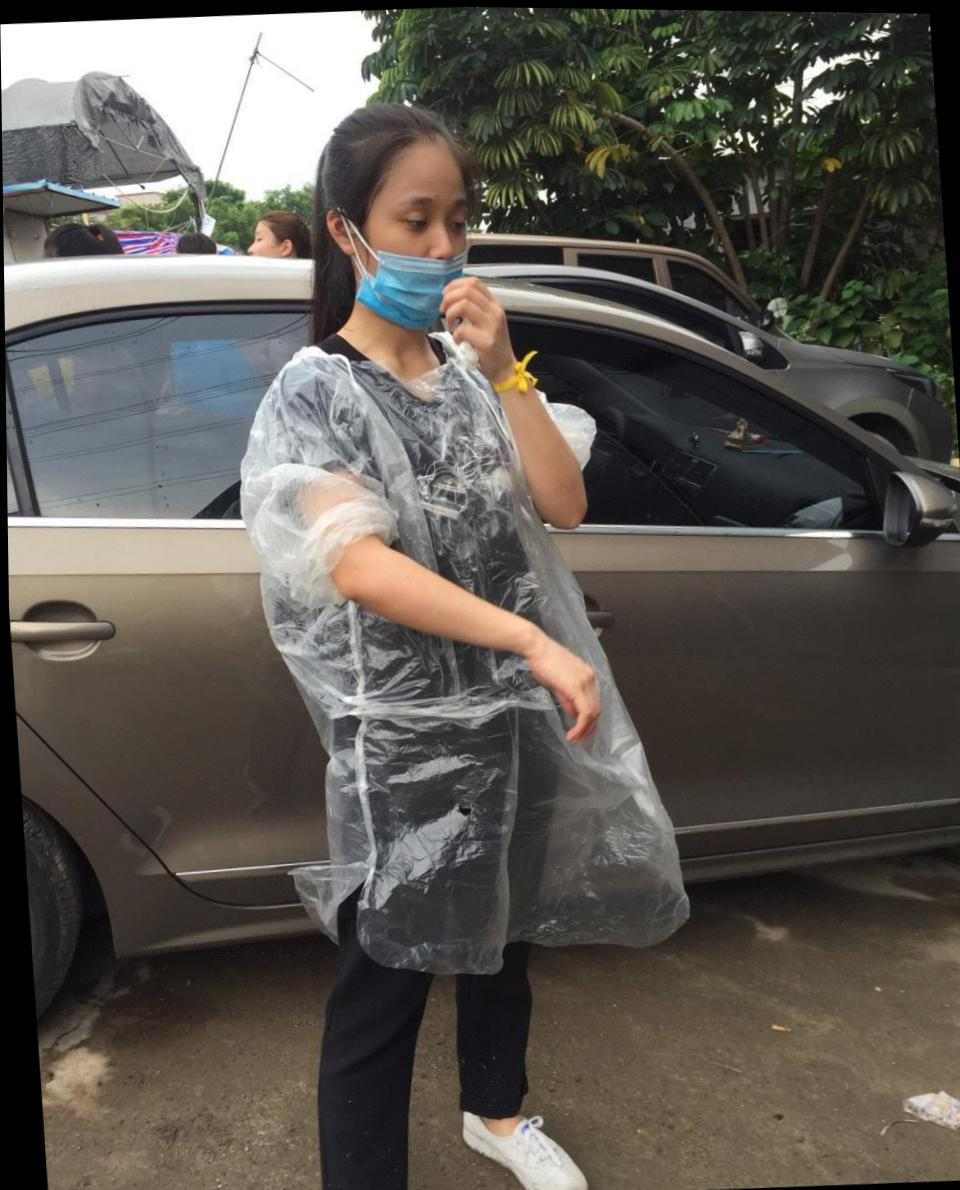NONE: (242, 221, 295, 278)
WRONG: (349, 167, 481, 316)
